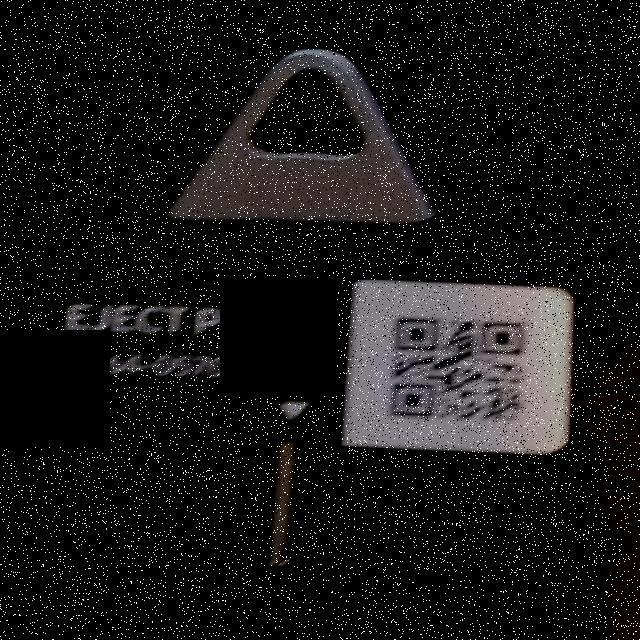QR_CODE: (375, 302, 536, 430)
